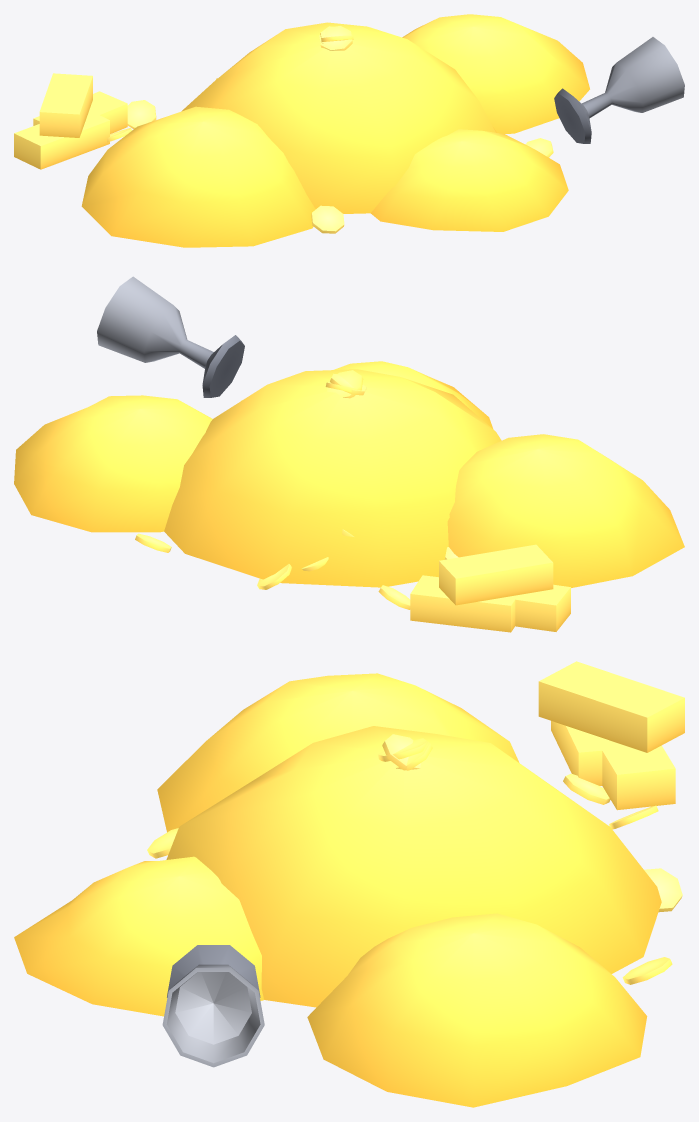
Rendered from coin_hoard.glb.
The picture shows the model from 3 angles, top to bottom: view 1: azimuth 30°, elevation 25°; view 2: azimuth 150°, elevation 25°; view 3: azimuth 270°, elevation 25°; orthographic projection. The views are drawn at different scales.
Visible parts, largest first — view 1: coin_hoard_glow, coin_hoard_trim; view 2: coin_hoard_glow, coin_hoard_trim; view 3: coin_hoard_glow, coin_hoard_trim.
Boxes of the visible parts, x1,y1,x2,y2 form: coin_hoard_glow: (14,14,589,247); coin_hoard_trim: (554,37,684,143); coin_hoard_glow: (14,361,684,632); coin_hoard_trim: (97,276,244,397); coin_hoard_glow: (14,661,684,1107); coin_hoard_trim: (162,945,264,1067).
Bounding box in the file's own units: 1.07 × 0.2294 × 0.7751.
